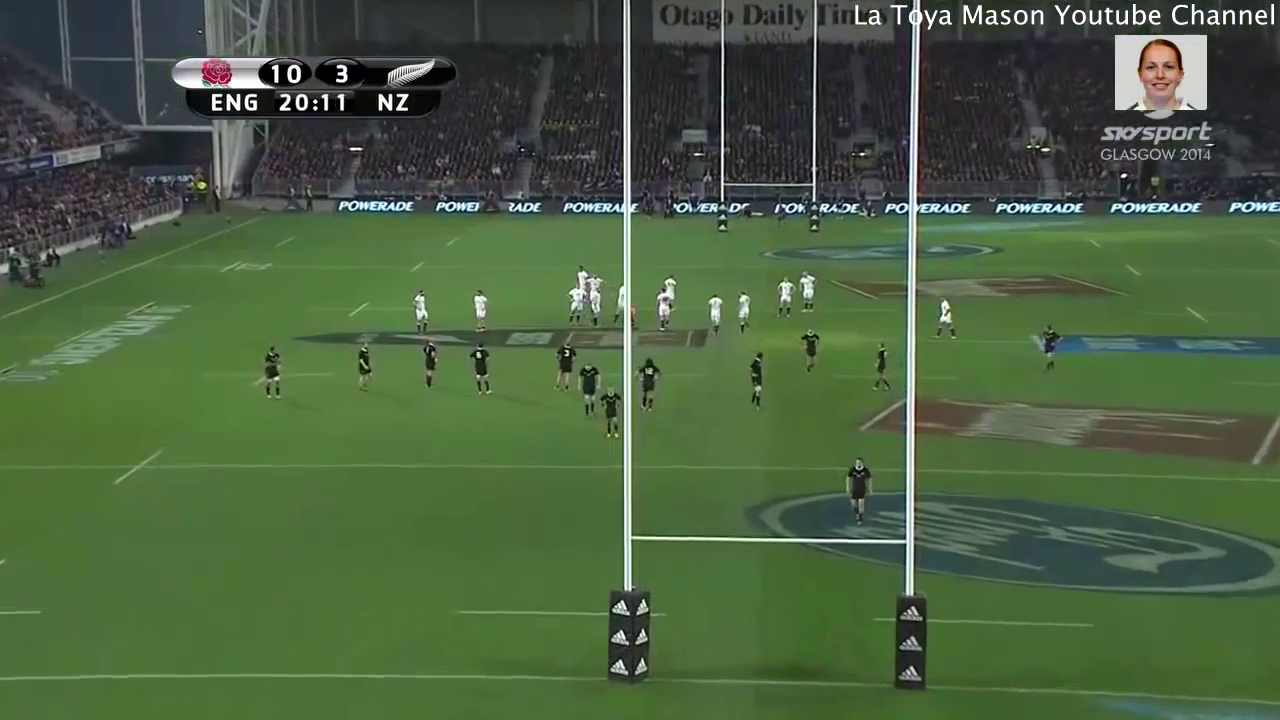player: (837, 454, 879, 529), (635, 353, 666, 419), (260, 341, 288, 405), (573, 359, 602, 419), (465, 338, 493, 400), (746, 345, 770, 415), (928, 290, 960, 339), (794, 268, 824, 320), (648, 287, 678, 336), (1040, 321, 1066, 376), (550, 336, 574, 393), (868, 337, 891, 396), (702, 287, 728, 339), (797, 326, 821, 380), (417, 336, 440, 392), (409, 284, 431, 342), (772, 272, 797, 322), (563, 278, 586, 332), (599, 384, 621, 440), (353, 339, 374, 396), (733, 290, 757, 334), (470, 286, 491, 336), (584, 282, 604, 333), (610, 276, 625, 333), (660, 269, 677, 308), (581, 269, 608, 288), (572, 263, 592, 288)
post: (605, 1, 937, 695), (705, 1, 829, 240)
